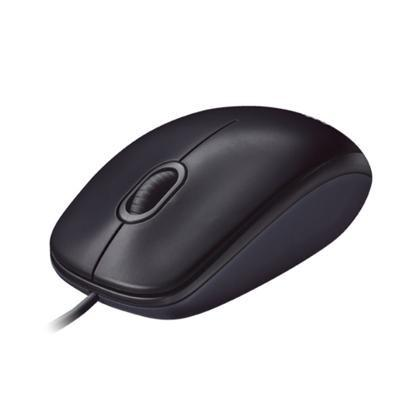not trash: (46, 107, 373, 322)
